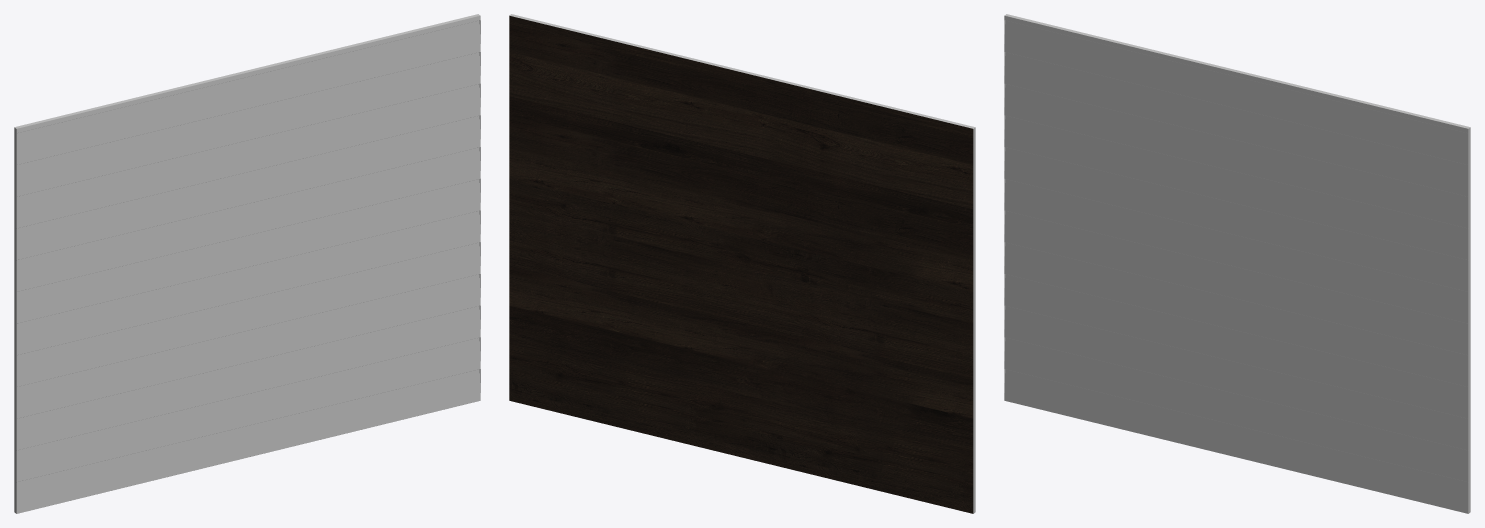
File: wall_potdeksel.obj
The picture shows the model from 3 angles, left to right: view 1: azimuth 30°, elevation 25°; view 2: azimuth 150°, elevation 25°; view 3: azimuth 330°, elevation 25°; orthographic projection.
Visible parts, largest first — view 1: wall_potdeksel; view 2: wall_potdeksel; view 3: wall_potdeksel.
Boxes of the visible parts, <box> form: wall_potdeksel: <box>14,14,480,513</box>; wall_potdeksel: <box>509,14,975,513</box>; wall_potdeksel: <box>1004,14,1470,513</box>.
Bounding box in the file's own units: 2.78 × 2.2 × 0.0249.
